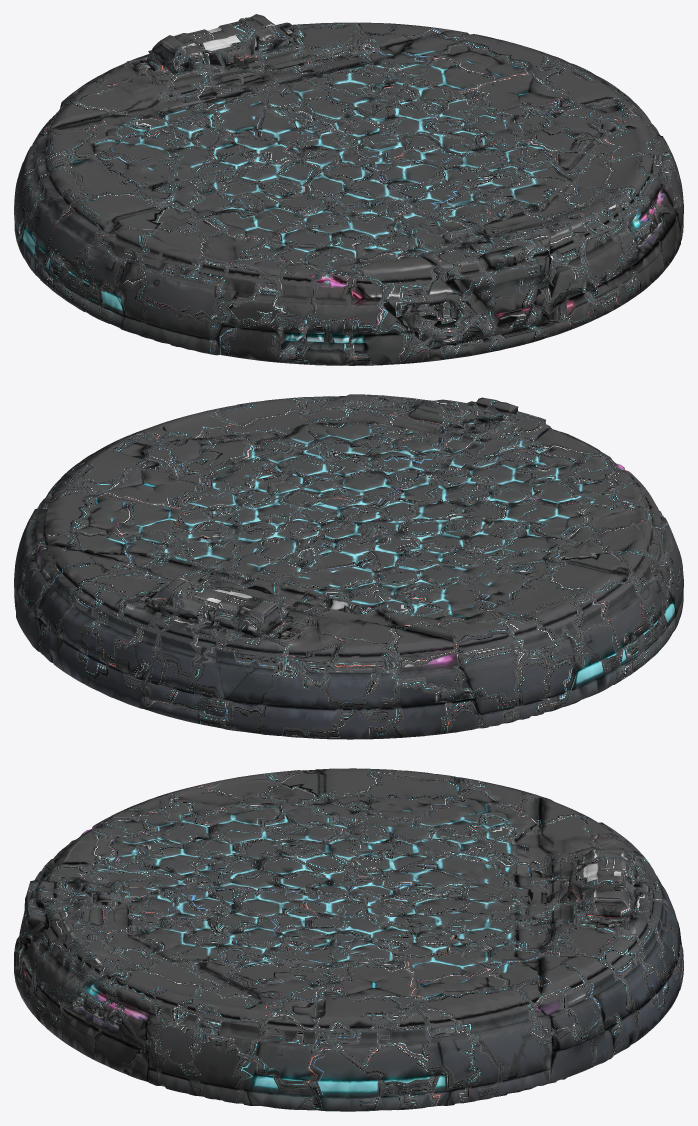
File: landing-pad.glb
The picture shows the model from 3 angles, top to bottom: view 1: azimuth 30°, elevation 25°; view 2: azimuth 150°, elevation 25°; view 3: azimuth 270°, elevation 25°; orthographic projection.
Bounding box in the file's own units: 1.99 × 0.3399 × 2.
Materials: 1 (1 with a texture image).
